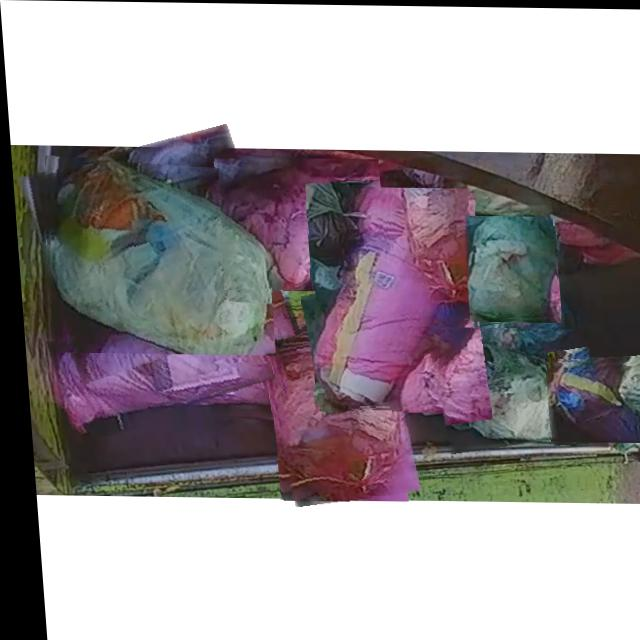general_trashbag: (43, 159, 266, 354), (432, 326, 588, 437), (465, 215, 552, 318)
other_trashbag: (309, 186, 472, 406), (52, 292, 274, 429), (270, 291, 394, 500), (218, 157, 378, 286), (542, 360, 640, 439), (228, 292, 234, 294)
